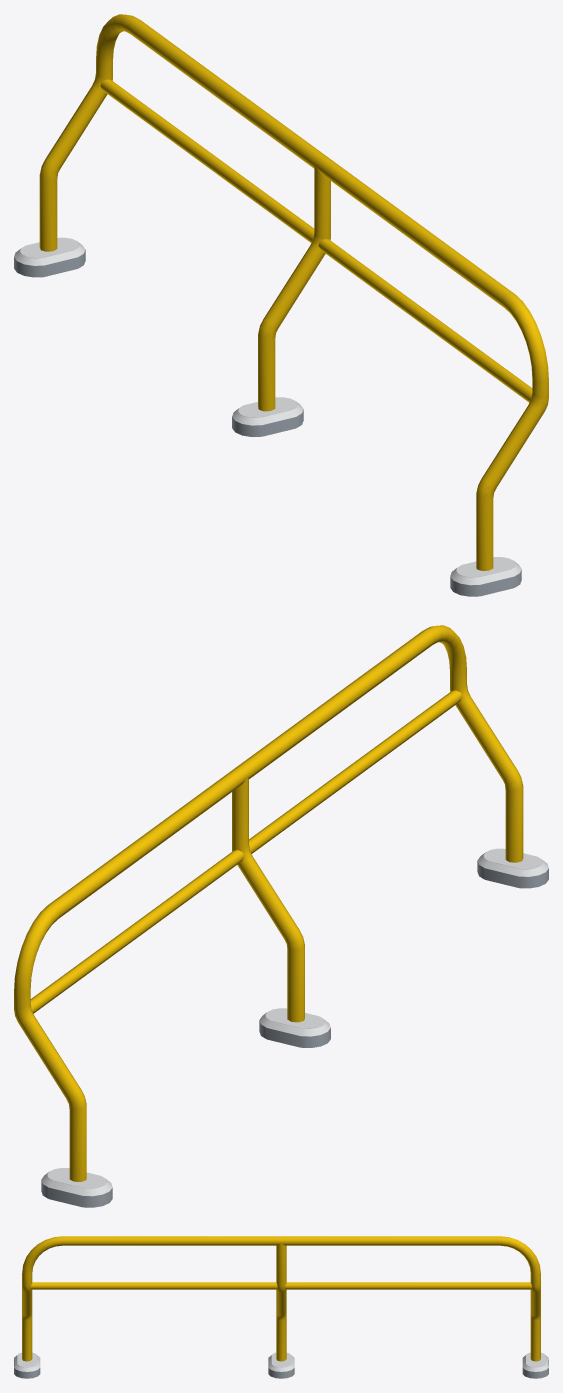
File: Floor_Fence_01.FBX
The picture shows the model from 3 angles, top to bottom: view 1: azimuth 30°, elevation 25°; view 2: azimuth 150°, elevation 25°; view 3: azimuth 270°, elevation 25°; orthographic projection. The views are drawn at different scales.
Visible parts, largest first — view 1: Floor_Fence_01; view 2: Floor_Fence_01; view 3: Floor_Fence_01.
Part boxes in pixels (bbox=[...]): Floor_Fence_01: bbox=[14, 14, 548, 596]; Floor_Fence_01: bbox=[14, 625, 548, 1207]; Floor_Fence_01: bbox=[14, 1236, 548, 1378].
Bounding box in the file's own units: 0.4399 × 1.13 × 3.68.
